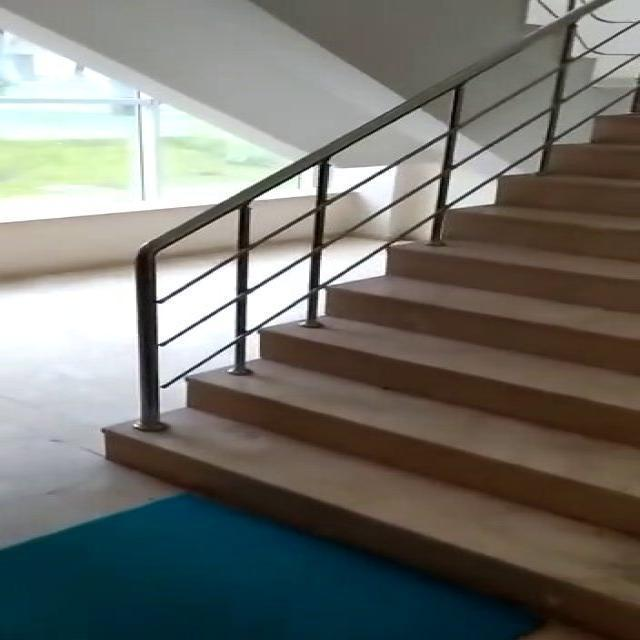stairs: (100, 90, 638, 638)
